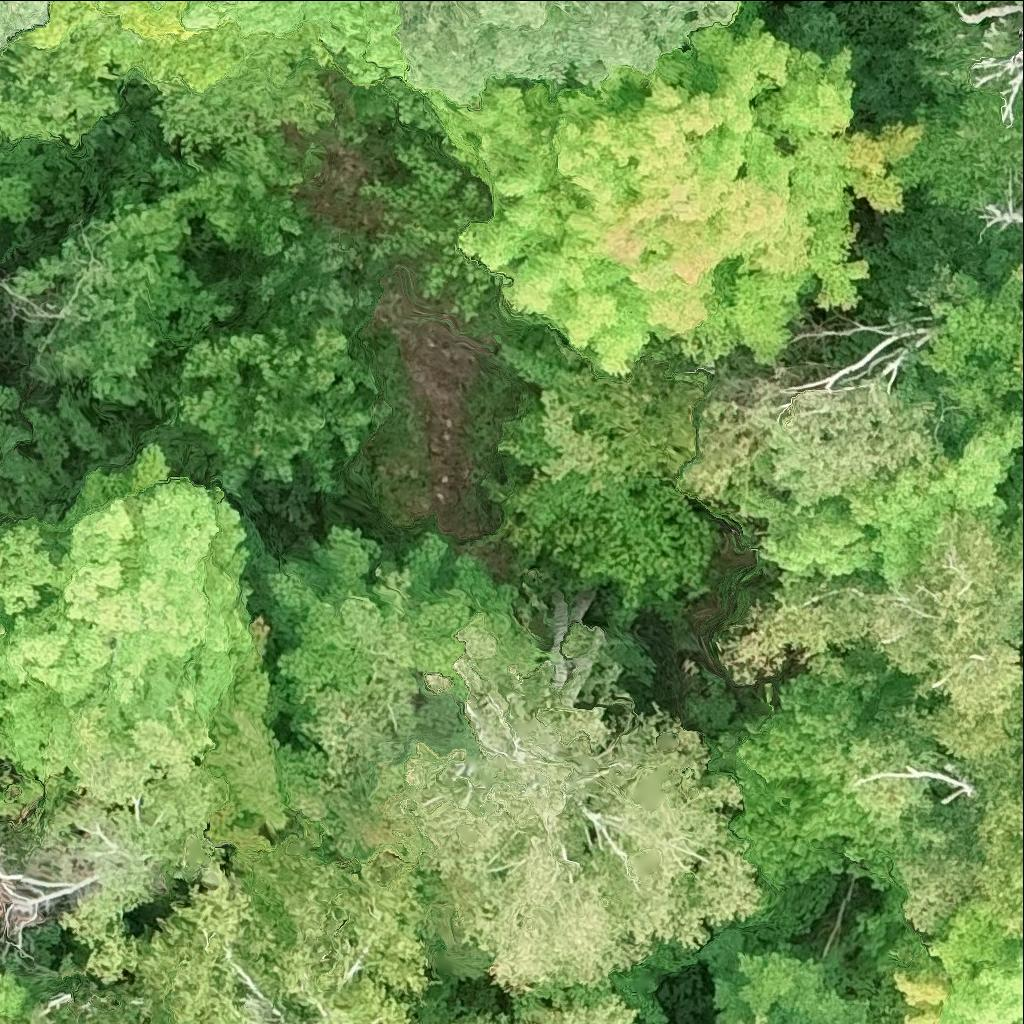crown: (426, 0, 925, 375), (366, 664, 766, 999), (697, 264, 1023, 597), (0, 449, 268, 772), (140, 223, 398, 524), (720, 509, 1023, 757), (474, 320, 719, 626), (677, 264, 961, 506), (717, 635, 915, 932), (849, 694, 1023, 938), (388, 0, 742, 111), (46, 769, 222, 983), (231, 838, 428, 1023), (886, 0, 1023, 217), (361, 145, 527, 318), (120, 878, 313, 1023), (838, 876, 1023, 1023), (151, 65, 336, 172), (180, 0, 401, 84), (712, 944, 878, 1023), (0, 839, 87, 947), (454, 997, 633, 1023), (0, 0, 55, 44), (0, 972, 29, 1021), (754, 1013, 765, 1023), (221, 0, 236, 4), (1020, 637, 1023, 656), (1019, 356, 1023, 369), (983, 0, 990, 1), (944, 0, 949, 1)
